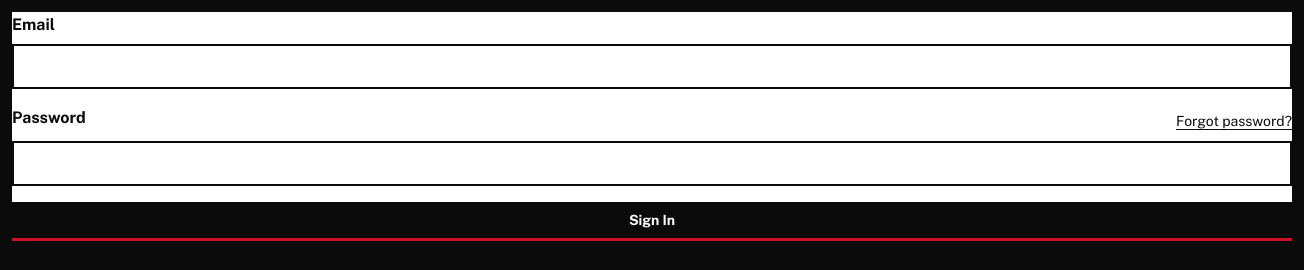
Test: LoginForm › MFA flow › shows MFA form when MFA is required
In the field labelled "Email": (652, 66) left=12, top=44, right=1292, bottom=89, type "admin@example.com"
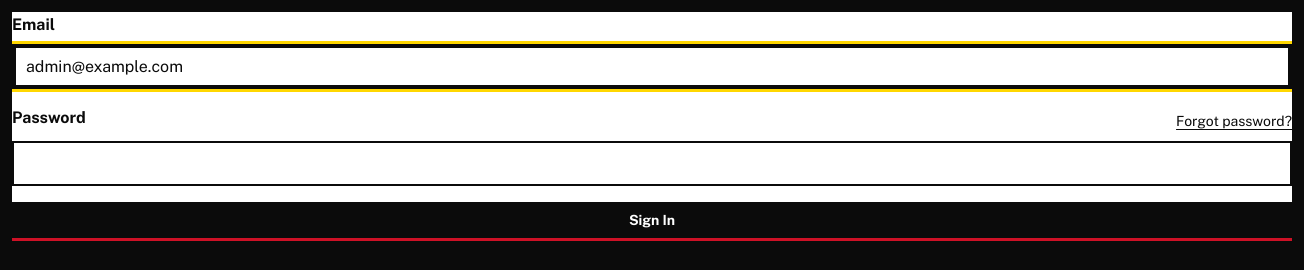
In the password field labelled "Password": (652, 164) left=12, top=141, right=1292, bottom=186, type "Password123!"
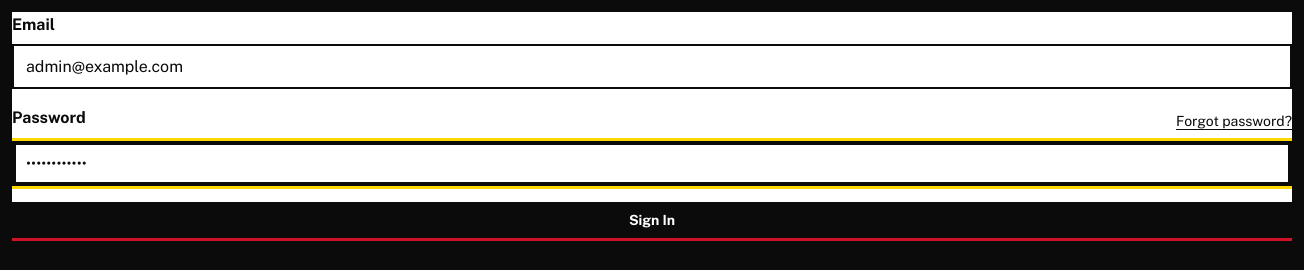
Click the button "Sign In": (652, 220) left=12, top=202, right=1292, bottom=238
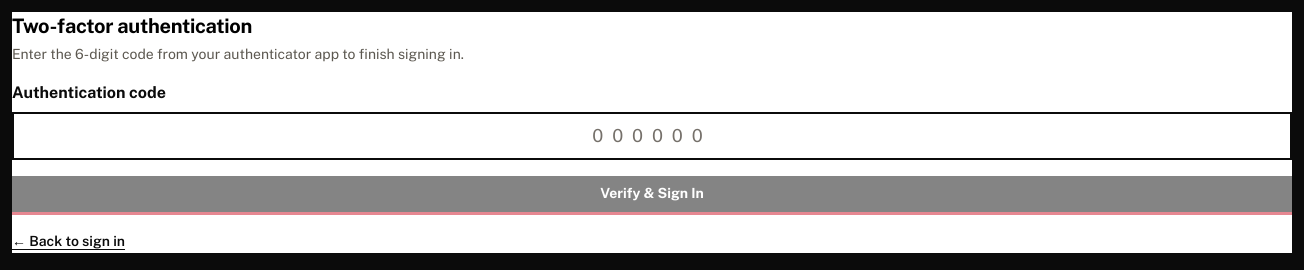
expect the heading "Two-factor authentication" is shown: met, box left=12, top=14, right=252, bottom=38
